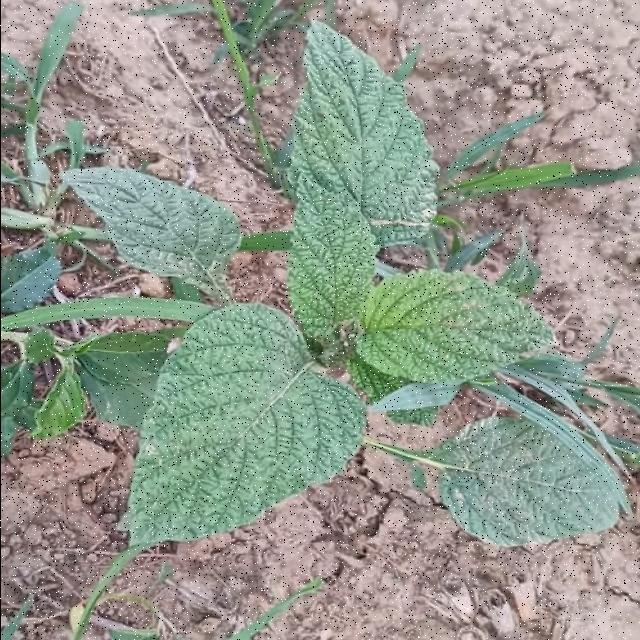weed: (1, 23, 553, 545), (372, 422, 618, 546)
